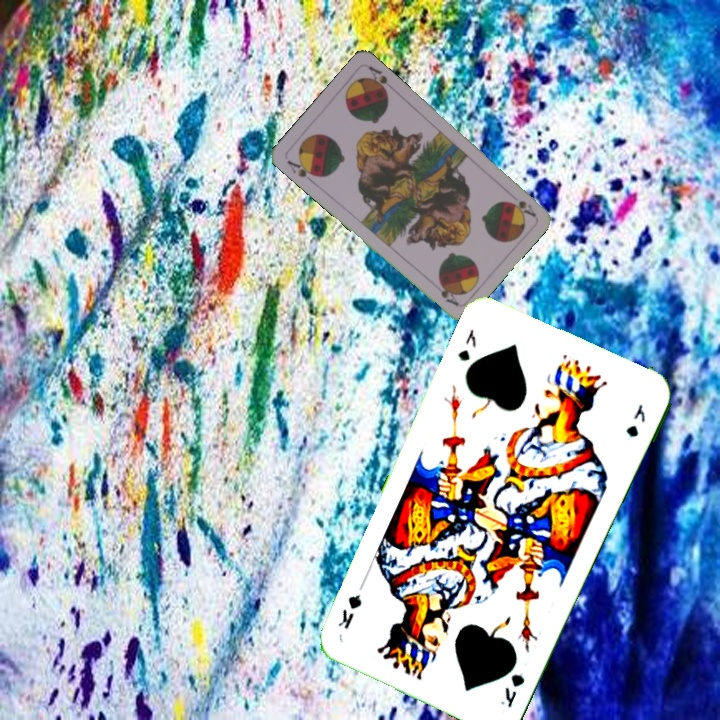GK: (496, 669, 528, 711), (453, 325, 479, 364)
SA: (283, 155, 321, 186), (506, 196, 538, 219)
